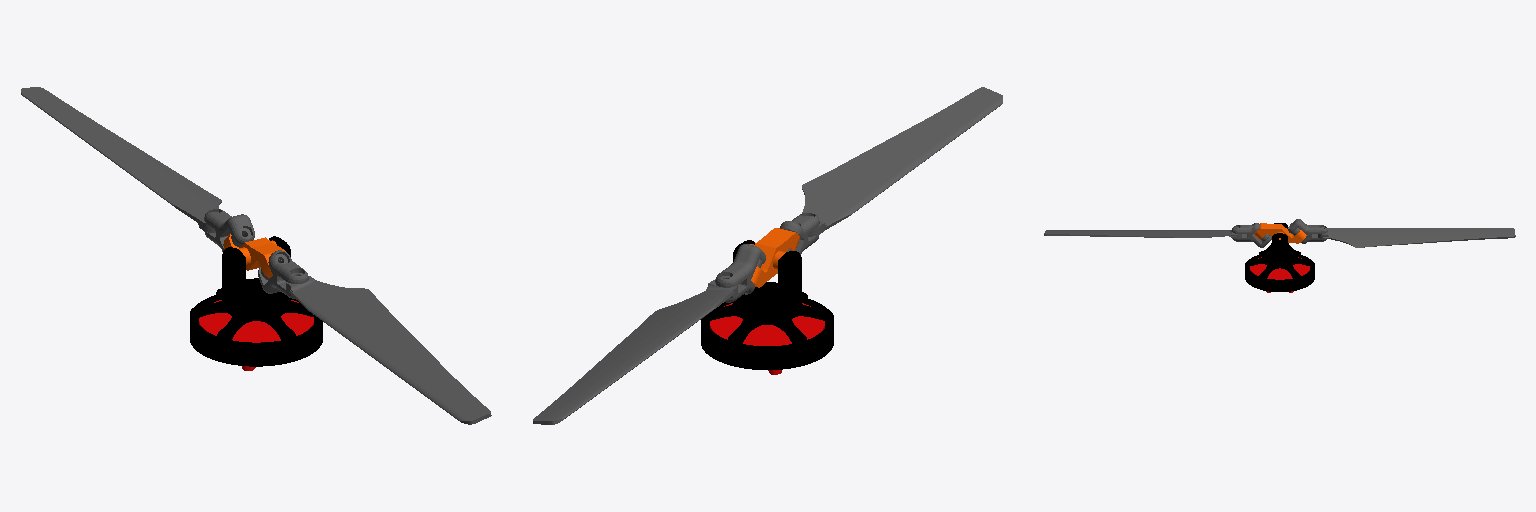
robot.urdf — RotorAssemblyFullURDF:
<?xml version="1.0" ?>
<!-- =================================================================================== -->
<!-- |    This document was autogenerated by xacro from RotorAssemblyFullURDF.xacro    | -->
<!-- |    EDITING THIS FILE BY HAND IS NOT RECOMMENDED                                 | -->
<!-- =================================================================================== -->
<robot name="RotorAssemblyFullURDF">
  <material name="silver">
    <color rgba="0.40 0.40 0.40 1.000"/>
  </material>
  <material name="orange">
      <color rgba="1.0 0.423 0.039 1.0"/>
  </material>
  <material name="blue">
    <color rgba="0.0 0.0 0.8 1.0"/>
  </material>
  <material name="black">
    <color rgba="0.0 0.0 0.0 1.000"/>
  </material>
  <material name="red">
    <color rgba="0.900 0.05 0.05 1.000"/>
  </material>
  <transmission name="Revolute 7_tran">
    <type>transmission_interface/SimpleTransmission</type>
    <joint name="Revolute 7">
      <hardwareInterface>hardware_interface/EffortJointInterface</hardwareInterface>
    </joint>
    <actuator name="Revolute 7_actr">
      <hardwareInterface>hardware_interface/EffortJointInterface</hardwareInterface>
      <mechanicalReduction>1</mechanicalReduction>
    </actuator>
  </transmission>
  <transmission name="Revolute 8_tran">
    <type>transmission_interface/SimpleTransmission</type>
    <joint name="Revolute 8">
      <hardwareInterface>hardware_interface/EffortJointInterface</hardwareInterface>
    </joint>
    <actuator name="Revolute 8_actr">
      <hardwareInterface>hardware_interface/EffortJointInterface</hardwareInterface>
      <mechanicalReduction>1</mechanicalReduction>
    </actuator>
  </transmission>
  <transmission name="Revolute 9_tran">
    <type>transmission_interface/SimpleTransmission</type>
    <joint name="Revolute 9">
      <hardwareInterface>hardware_interface/EffortJointInterface</hardwareInterface>
    </joint>
    <actuator name="Revolute 9_actr">
      <hardwareInterface>hardware_interface/EffortJointInterface</hardwareInterface>
      <mechanicalReduction>1</mechanicalReduction>
    </actuator>
  </transmission>
  <transmission name="Revolute 10_tran">
    <type>transmission_interface/SimpleTransmission</type>
    <joint name="Revolute 10">
      <hardwareInterface>hardware_interface/EffortJointInterface</hardwareInterface>
    </joint>
    <actuator name="Revolute 10_actr">
      <hardwareInterface>hardware_interface/EffortJointInterface</hardwareInterface>
      <mechanicalReduction>1</mechanicalReduction>
    </actuator>
  </transmission>
  <gazebo>
    <plugin filename="libgazebo_ros_control.so" name="control"/>
  </gazebo>
  <gazebo reference="base_link">
    <material>Gazebo/Silver</material>
    <mu1>0.2</mu1>
    <mu2>0.2</mu2>
    <selfCollide>true</selfCollide>
    <gravity>true</gravity>
  </gazebo>
  <gazebo reference="hub_1">
    <material>Gazebo/Silver</material>
    <mu1>0.2</mu1>
    <mu2>0.2</mu2>
    <selfCollide>true</selfCollide>
  </gazebo>
  <gazebo reference="Teetering_Hub_1">
    <material>Gazebo/Orange</material>
    <mu1>0.2</mu1>
    <mu2>0.2</mu2>
    <selfCollide>true</selfCollide>
  </gazebo>
  <gazebo reference="SideHubNegative_1">
    <material>Gazebo/Silver</material>
    <mu1>0.2</mu1>
    <mu2>0.2</mu2>
    <selfCollide>true</selfCollide>
  </gazebo>
  <gazebo reference="SideHubPositive_1">
    <material>Gazebo/Silver</material>
    <mu1>0.2</mu1>
    <mu2>0.2</mu2>
    <selfCollide>true</selfCollide>
  </gazebo>
  <link name="base_link">
    <inertial>
      <origin rpy="0 0 0" xyz="7.738042425137721e-14 1.7881392864610074e-10 -0.013027047773476477"/>
      <mass value="0.04838658295139719"/>
      <inertia ixx="7e-06" ixy="0.0" ixz="0.0" iyy="7e-06" iyz="0.0" izz="1.3e-05"/>
    </inertial>
    <visual>
      <origin rpy="0 0 0" xyz="0 0 0"/>
      <geometry>
        <mesh filename="package://RotorAssemblyFullURDF_description/meshes/base_link.stl" scale="0.001 0.001 0.001"/>
      </geometry>
      <material name="red"/>
    </visual>
    <collision>
      <origin rpy="0 0 0" xyz="0 0 0"/>
      <geometry>
        <mesh filename="package://RotorAssemblyFullURDF_description/meshes/base_link.stl" scale="0.001 0.001 0.001"/>
      </geometry>
    </collision>
  </link>
  <link name="hub_1">
    <inertial>
      <origin rpy="0 0 0" xyz="5.134385663919432e-06 5.324199036162284e-08 0.02045097842795695"/>
      <mass value="0.025233763410004266"/>
      <inertia ixx="7e-06" ixy="-0.0" ixz="-0.0" iyy="8e-06" iyz="0.0" izz="1.1e-05"/>
    </inertial>
    <visual>
      <origin rpy="0 0 0" xyz="0.0 -0.0 0.025"/>
      <geometry>
        <mesh filename="package://RotorAssemblyFullURDF_description/meshes/hub_1.stl" scale="0.001 0.001 0.001"/>
      </geometry>
      <material name="black"/>
    </visual>
    <collision>
      <origin rpy="0 0 0" xyz="0.0 -0.0 0.025"/>
      <geometry>
        <mesh filename="package://RotorAssemblyFullURDF_description/meshes/hub_1.stl" scale="0.001 0.001 0.001"/>
      </geometry>
    </collision>
  </link>
  <link name="Teetering_Hub_1">
    <inertial>
      <origin rpy="0 0 0" xyz="-3.5419443219343136e-14 1.7881397990284334e-10 -9.317626531446521e-11"/>
      <mass value="0.00336023778370724"/>
      <inertia ixx="0.0" ixy="0.0" ixz="0.0" iyy="0.0" iyz="0.0" izz="0.0"/>
    </inertial>
    <visual>
      <origin rpy="0 0 0" xyz="-0.0 -0.0 -0.022"/>
      <geometry>
        <mesh filename="package://RotorAssemblyFullURDF_description/meshes/Teetering_Hub_1.stl" scale="0.001 0.001 0.001"/>
      </geometry>
      <material name="orange"/>
    </visual>
    <collision>
      <origin rpy="0 0 0" xyz="-0.0 -0.0 -0.022"/>
      <geometry>
        <mesh filename="package://RotorAssemblyFullURDF_description/meshes/Teetering_Hub_1.stl" scale="0.001 0.001 0.001"/>
      </geometry>
    </collision>
  </link>
  <link name="SideHubNegative_1">
    <inertial>
      <origin rpy="0 0 0" xyz="0.0008257992232984365 0.06000080025347367 0.0013887971279314439"/>
      <mass value="0.007461147444443305"/>
      <inertia ixx="2.1e-05" ixy="-0.0" ixz="0.0" iyy="0.0" iyz="0.0" izz="2.1e-05"/>
    </inertial>
    <visual>
      <origin rpy="0 0 0" xyz="-0.0 -0.016061 -0.020939"/>
      <geometry>
        <mesh filename="package://RotorAssemblyFullURDF_description/meshes/SideHubNegative_1.stl" scale="0.001 0.001 0.001"/>
      </geometry>
      <material name="silver"/>
    </visual>
    <collision>
      <origin rpy="0 0 0" xyz="-0.0 -0.016061 -0.020939"/>
      <geometry>
        <mesh filename="package://RotorAssemblyFullURDF_description/meshes/SideHubNegative_1.stl" scale="0.001 0.001 0.001"/>
      </geometry>
    </collision>
  </link>
  <link name="SideHubPositive_1">
    <inertial>
      <origin rpy="0 0 0" xyz="0.0008257992221561715 -0.06000079987073235 -0.001388797312438756"/>
      <mass value="0.0074611474493650465"/>
      <inertia ixx="2.1e-05" ixy="0.0" ixz="-0.0" iyy="0.0" iyz="0.0" izz="2.1e-05"/>
    </inertial>
    <visual>
      <origin rpy="0 0 0" xyz="-0.0 0.016061 -0.023061"/>
      <geometry>
        <mesh filename="package://RotorAssemblyFullURDF_description/meshes/SideHubPositive_1.stl" scale="0.001 0.001 0.001"/>
      </geometry>
      <material name="silver"/>
    </visual>
    <collision>
      <origin rpy="0 0 0" xyz="-0.0 0.016061 -0.023061"/>
      <geometry>
        <mesh filename="package://RotorAssemblyFullURDF_description/meshes/SideHubPositive_1.stl" scale="0.001 0.001 0.001"/>
      </geometry>
    </collision>
  </link>
  <joint name="Revolute 7" type="continuous">
    <origin rpy="0 0 0" xyz="0.0 0.0 -0.025"/>
    <parent link="base_link"/>
    <child link="hub_1"/>
    <axis xyz="-0.0 -0.0 -1.0"/>
  </joint>
  <joint name="Revolute 8" type="continuous">
    <origin rpy="0 0 0" xyz="0.0 0.0 0.047"/>
    <parent link="hub_1"/>
    <child link="Teetering_Hub_1"/>
    <axis xyz="1.0 -0.0 -0.0"/>
  </joint>
  <joint name="Revolute 9" type="continuous">
    <origin rpy="0 0 0" xyz="0.0 0.016061 -0.001061"/>
    <parent link="Teetering_Hub_1"/>
    <child link="SideHubNegative_1"/>
    <axis xyz="-0.0 0.707107 -0.707107"/>
  </joint>
  <joint name="Revolute 10" type="continuous">
    <origin rpy="0 0 0" xyz="0.0 -0.016061 0.001061"/>
    <parent link="Teetering_Hub_1"/>
    <child link="SideHubPositive_1"/>
    <axis xyz="-0.0 0.707107 -0.707107"/>
  </joint>
</robot>

--- Render facts (derived) ---
Views: 3 orthographic renders of the robot side by side, from view 1: azimuth 30°, elevation 25°; view 2: azimuth 150°, elevation 25°; view 3: azimuth 270°, elevation 25°.
Model RotorAssemblyFullURDF with 5 links and 4 joints (4 continuous), rooted at base_link, posed every joint at zero.
Visible links, largest first — view 1: SideHubPositive_1, hub_1, SideHubNegative_1, base_link, Teetering_Hub_1; view 2: SideHubPositive_1, hub_1, SideHubNegative_1, base_link, Teetering_Hub_1; view 3: SideHubNegative_1, hub_1, SideHubPositive_1.
Link boxes in pixels (x1=…): SideHubPositive_1: x1=258, y1=250, x2=491, y2=424; hub_1: x1=190, y1=236, x2=322, y2=366; SideHubNegative_1: x1=21, y1=87, x2=254, y2=251; base_link: x1=199, y1=300, x2=313, y2=370; Teetering_Hub_1: x1=223, y1=233, x2=285, y2=277; SideHubPositive_1: x1=780, y1=87, x2=1002, y2=254; hub_1: x1=701, y1=240, x2=833, y2=369; SideHubNegative_1: x1=533, y1=244, x2=765, y2=424; base_link: x1=710, y1=303, x2=824, y2=374; Teetering_Hub_1: x1=750, y1=228, x2=799, y2=287; SideHubNegative_1: x1=1288, y1=219, x2=1515, y2=247; hub_1: x1=1245, y1=223, x2=1314, y2=291; SideHubPositive_1: x1=1044, y1=223, x2=1271, y2=247.
Size in the robot's own frame: 0.0556 by 0.3752 by 0.0585 metres.
5 mesh visuals loaded from 5 distinct referenced files (5 binary STL).